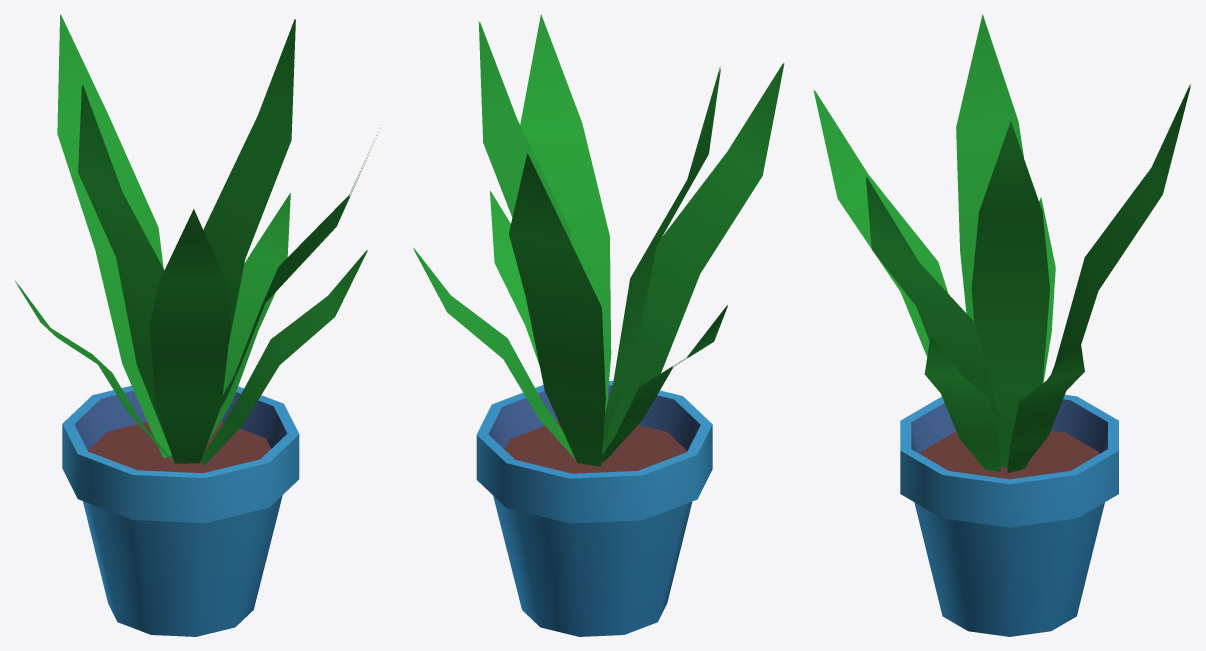
The model's file is flower1.fbx.
3 views of the same model, side by side, from view 1: azimuth 30°, elevation 25°; view 2: azimuth 150°, elevation 25°; view 3: azimuth 270°, elevation 25° (orthographic). The views are drawn at different scales.
Visible parts, largest first — view 1: flower1; view 2: flower1; view 3: flower1.
Boxes of the visible parts, <box> form: flower1: <box>15,14,377,636</box>; flower1: <box>413,14,784,636</box>; flower1: <box>813,14,1191,636</box>.
Bounding box in the file's own units: 156 × 281 × 178.
Materials: 1 (1 with a texture image).
